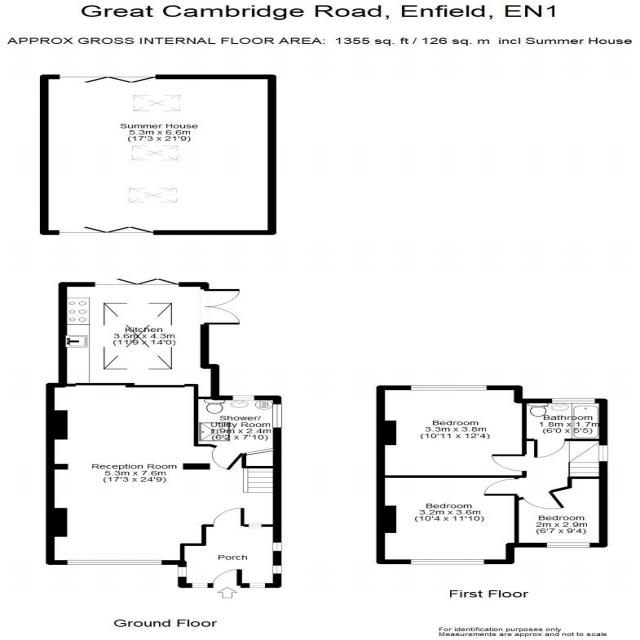DOOR: (208, 445, 246, 472), (520, 491, 568, 510), (489, 453, 528, 473), (531, 438, 567, 459), (211, 507, 247, 527), (483, 478, 519, 497), (212, 568, 243, 588)
ROOM: (46, 383, 284, 565), (376, 385, 528, 478), (376, 474, 521, 564), (505, 476, 608, 548)
WINDOW: (66, 559, 164, 566), (409, 558, 486, 566), (409, 384, 489, 391), (270, 403, 284, 429), (551, 397, 596, 405), (545, 541, 592, 548), (597, 444, 610, 462), (231, 394, 256, 402), (191, 582, 209, 589), (248, 582, 266, 589), (177, 566, 188, 577), (271, 542, 283, 552), (271, 565, 284, 574), (247, 522, 263, 529)
